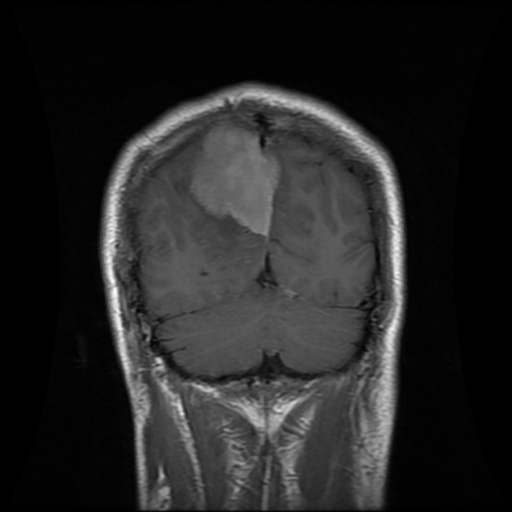meningioma: (192, 123, 281, 234)
